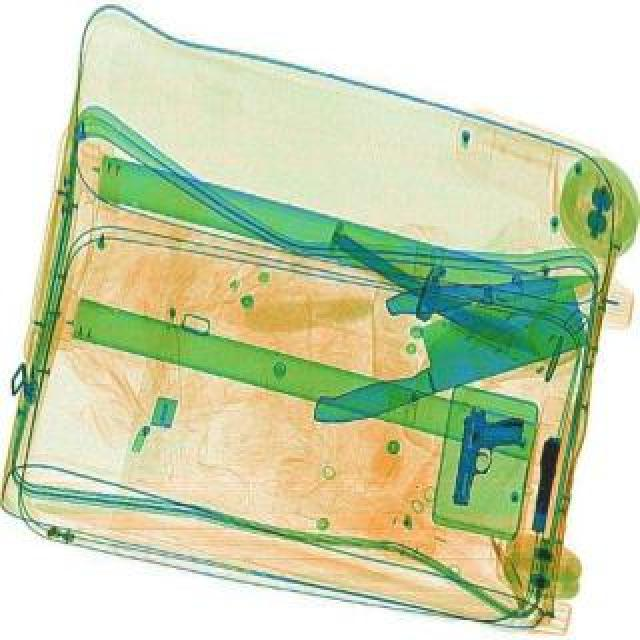gun: (450, 404, 532, 510), (528, 430, 568, 530)
knife: (296, 278, 596, 430), (328, 224, 548, 364), (386, 256, 604, 318)
